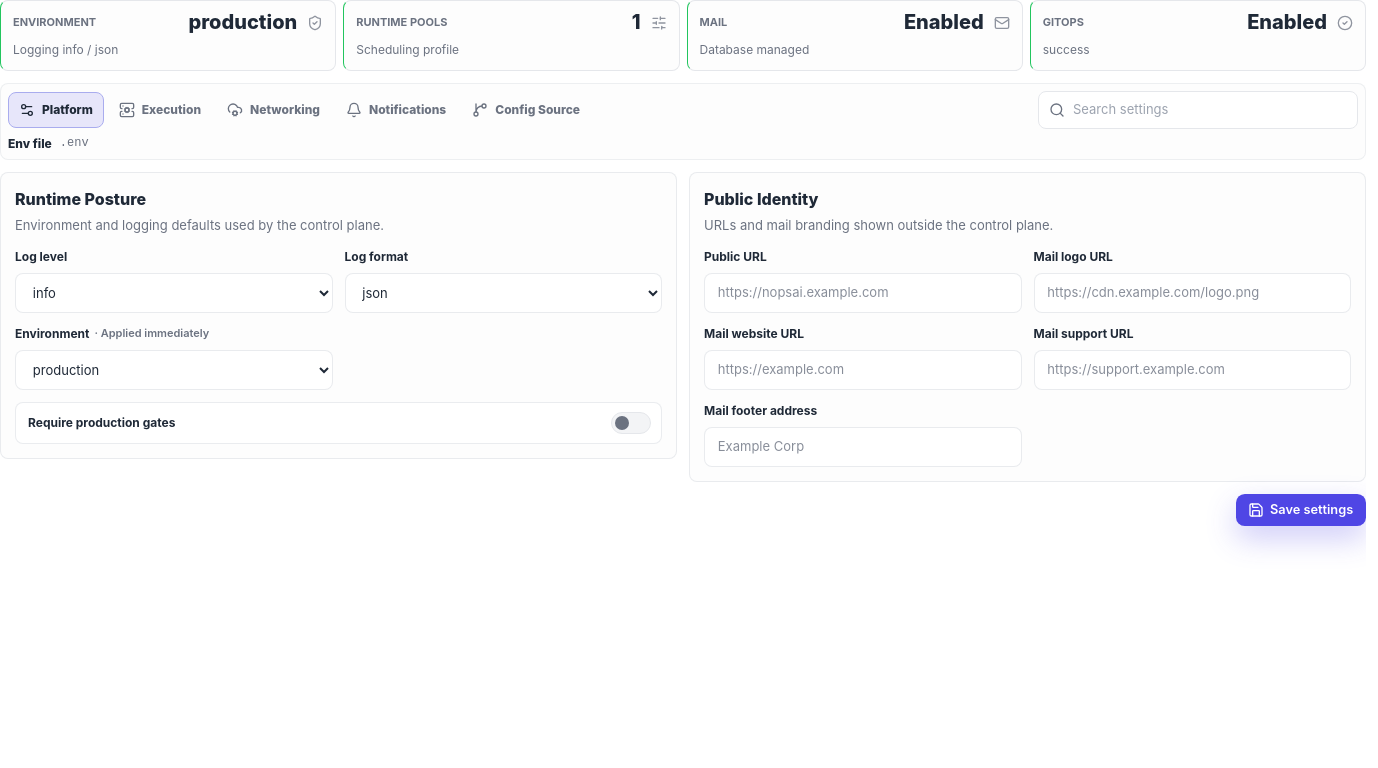
renders the settings hub and filters sections by search
Click the tab "Config Source": (526, 110) [461,92,591,128]
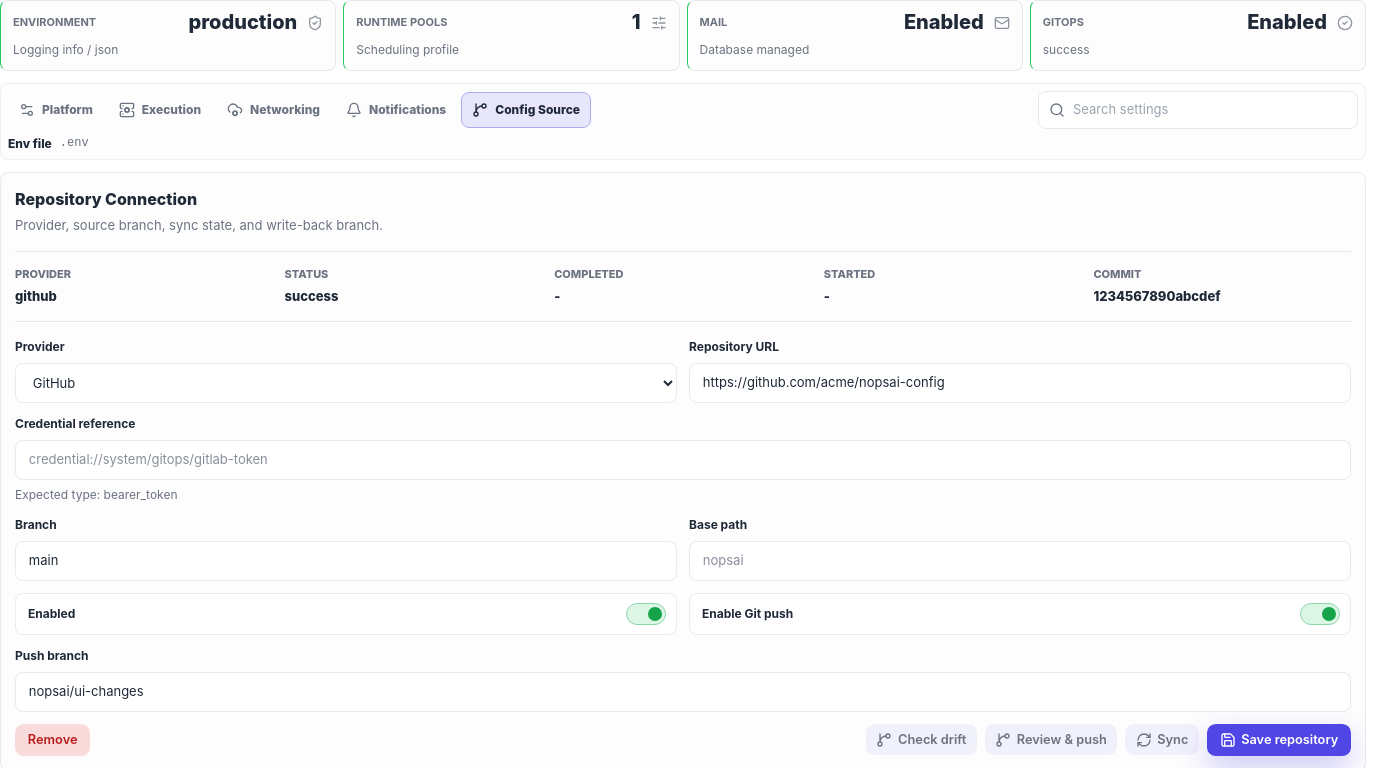
Now the field labelled "Repository URL" is shown, box [689,363,1351,403]
In the search field labelled "Search settings": (1198, 110) [1038,91,1358,128], type "smtp"
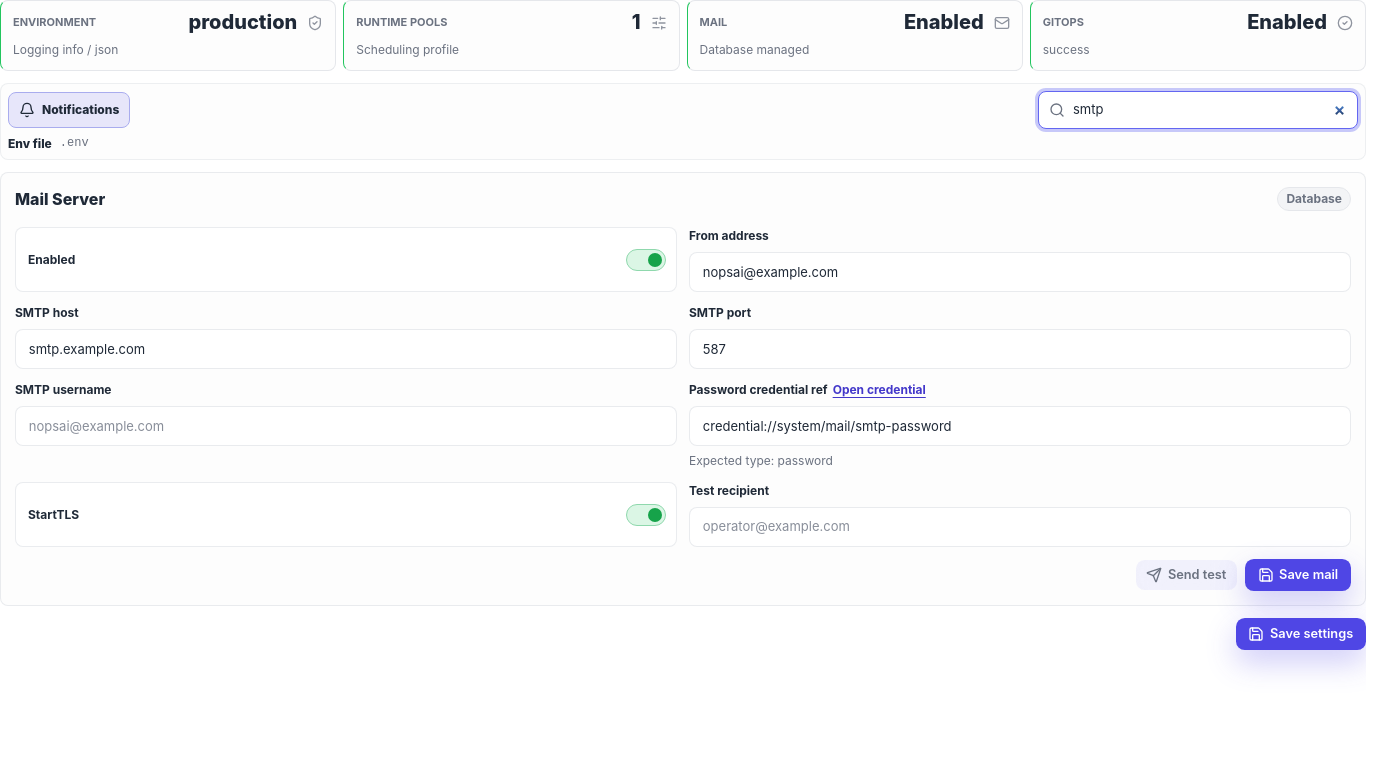
Expected: the tab "Notifications" is shown, [8,92,130,128]
Replace the text in the search field named "Search settings" with "no-result": (1198, 110) [1038,91,1358,128]
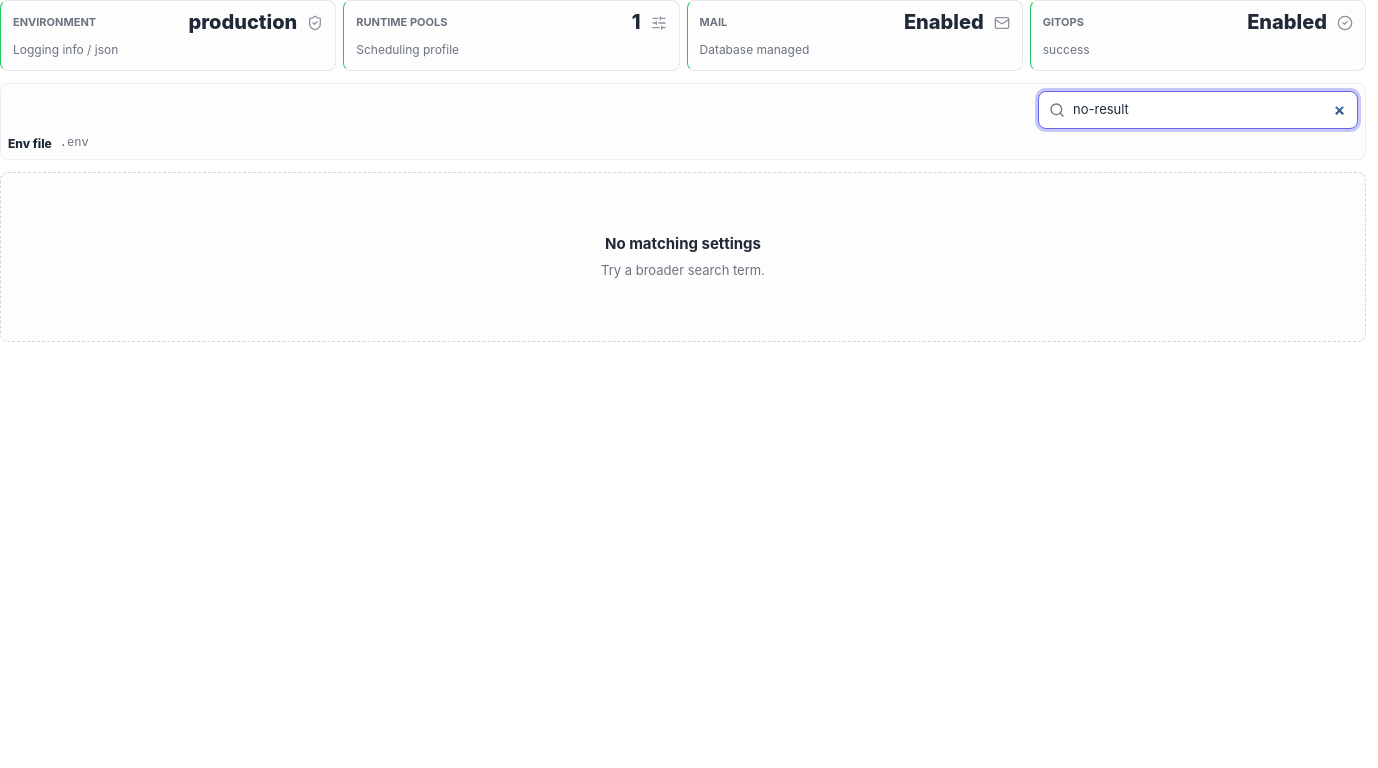
Now the text "No matching settings" is shown, box [605,233,761,255]
